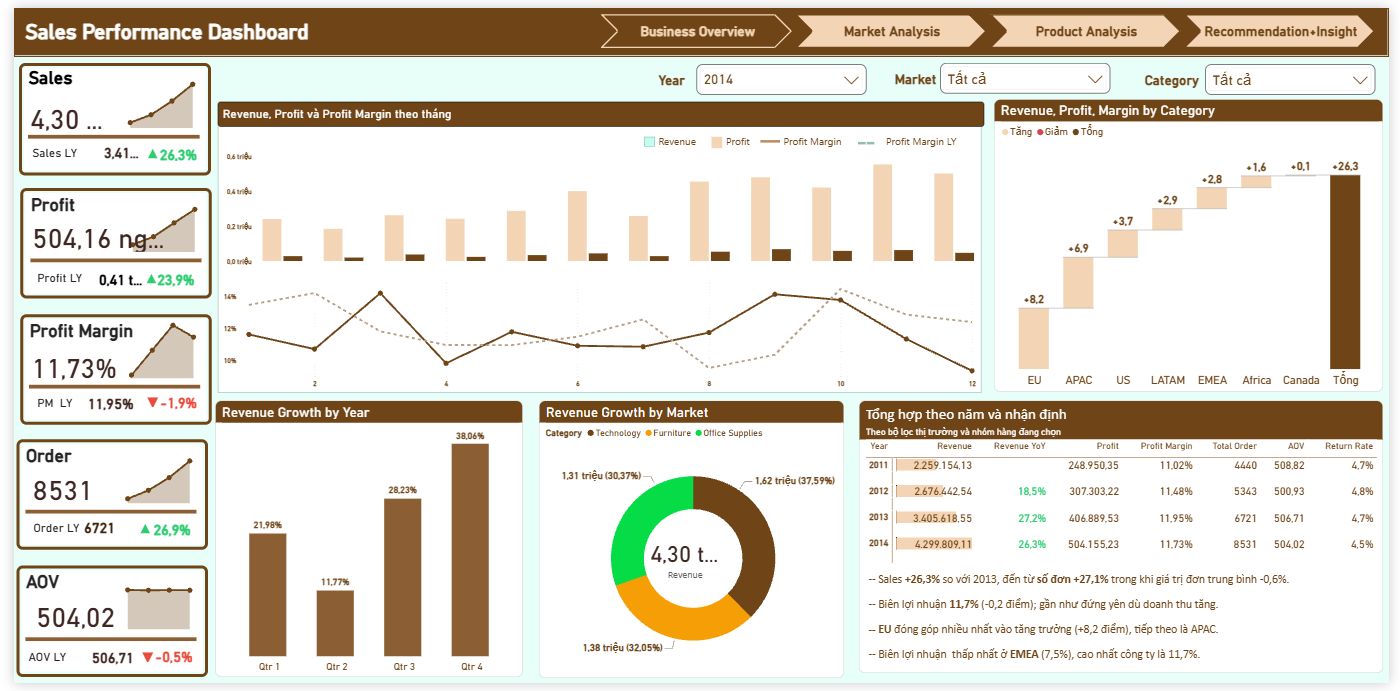

This screenshot's page, from the dashboard's own definition file:
{"tool":"powerbi","page":{"name":"Business Overview","canvas":[2200,1080],"ordinal":0},"visuals":[{"type":"shape","box":[0,0,2200,78],"z":0,"group":"g14"},{"type":"shape","box":[7.3,88,307.5,180],"z":0,"group":"g13"},{"type":"group","id":"g1","title":"Group 4","box":[1803.4,89.8,374.6,56.2],"z":0,"group":"g15"},{"type":"textbox","box":[1403.5,95.2,92.6,48.9],"z":0,"group":"g4"},{"type":"textbox","box":[1803.4,97,117.3,48.9],"z":0,"group":"g1"},{"type":"textbox","box":[1026,97.2,67.9,36.2],"z":0,"group":"g18"},{"type":"shape","box":[326,150,1222,466],"z":0},{"type":"group","id":"g2","title":"Group 3","box":[1008,196,97,36.9],"z":0,"group":"g5"},{"type":"shape","box":[1193.5,198,32.3,30.7],"z":0,"group":"g6"},{"type":"shape","box":[1115.8,205.2,17.3,18.3],"z":0,"group":"g3"},{"type":"shape","box":[1008,206.2,17.3,16.4],"z":0,"group":"g2"},{"type":"shape","box":[1364.9,206.2,12.9,20.5],"z":0,"group":"g11"},{"type":"shape","box":[10.9,288.1,306.2,177.1],"z":0,"group":"g12"},{"type":"shape","box":[9.3,489.4,306.2,177.1],"z":0,"group":"g10"},{"type":"shape","box":[4,690.7,306.2,177.1],"z":0,"group":"g9"},{"type":"shape","box":[4,892,306.2,178],"z":0,"group":"g8"},{"type":"slicer","fields":{"Values":["Dim_Geography.Market"]},"box":[1481.7,88,271.7,48.9],"z":1000,"group":"g4"},{"type":"slicer","fields":{"Values":["Dim_Product.Category"]},"box":[1906.3,89.8,271.7,48.9],"z":1000,"group":"g1"},{"type":"slicer","fields":{"Values":["Dim_Date.Year"]},"box":[1091.9,90,271.7,48.9],"z":1000,"group":"g18"},{"type":"textbox","box":[1025.3,196,79.8,36.9],"z":1000,"group":"g2"},{"type":"group","id":"g3","title":"Group 2","box":[1115.8,196,77.6,38.9],"z":1000,"group":"g5"},{"type":"textbox","box":[1133.1,196,60.4,38.9],"z":1000,"group":"g3"},{"type":"textbox","box":[1225.8,196,114.3,40.9],"z":1000,"group":"g6"},{"type":"textbox","box":[1391.9,196,138,40.9],"z":1000,"group":"g7"},{"type":"shape","box":[1350.9,206.2,12.9,20.5],"z":1000,"group":"g11"},{"type":"textbox","box":[24.7,215.9,156.7,34.5],"z":1000,"group":"g13"},{"type":"clusteredColumnChart","title":"Revenue, Profit, Margin by Category","fields":{"Category":["Dim_Date.Month"],"Y":["_Measure.Total Revenue","_Measure.Total Profit"]},"box":[330,224,1218,194],"z":1000},{"type":"cardVisual","fields":{"Data":["_Measure.Profit LY"]},"box":[112,408.3,118,50],"z":1000,"group":"g12"},{"type":"textbox","box":[32.6,615.1,90,40],"z":1000,"group":"g10"},{"type":"cardVisual","fields":{"Data":["_Measure.Order LY"]},"box":[88,807.3,118,50],"z":1000,"group":"g9"},{"type":"cardVisual","fields":{"Data":["_Measure.AOV LY"]},"box":[100,1012,118,52],"z":1000,"group":"g8"},{"type":"pageNavigator","box":[938,10,1240,54],"z":2000,"group":"g14"},{"type":"group","id":"g4","title":"Group 3","box":[1403.5,88,349.9,56.2],"z":2000,"group":"g15"},{"type":"group","id":"g5","title":"Group 1","box":[1008,196,522,40],"z":2000},{"type":"group","id":"g6","title":"Group 4","box":[1193.5,196,146.6,40.9],"z":2000,"group":"g5"},{"type":"cardVisual","fields":{"Data":["_Measure.Growth Arrow"]},"box":[179.3,207.8,80.4,50.8],"z":2000,"group":"g13"},{"type":"cardVisual","fields":{"Data":["_Measure.Profit YoY Growth %"]},"box":[200,403.3,126,60],"z":2000,"group":"g12"},{"type":"cardVisual","fields":{"Data":["_Measure.PM Growth Arrow"]},"box":[180.6,605.1,80,50],"z":2000,"group":"g10"},{"type":"cardVisual","fields":{"Data":["_Measure.Order yoy"]},"box":[193.1,803.8,126,60],"z":2000,"group":"g9"},{"type":"cardVisual","fields":{"Data":["_Measure.AOV yoy"]},"box":[196.3,1005.8,125.7,61.7],"z":2000,"group":"g8"},{"type":"textbox","box":[18,18,528,40],"z":2500,"group":"g14"},{"type":"group","id":"g7","title":"Group 6","box":[1350.9,196,179,40.9],"z":3000,"group":"g5"},{"type":"cardVisual","fields":{"Data":["_Measure.Revenue LY"]},"box":[120,206.6,108,49.1],"z":3000,"group":"g13"},{"type":"cardVisual","fields":{"Data":["_Measure.Profit Growth Arrow"]},"box":[178.4,408.3,81.4,50],"z":3000,"group":"g12"},{"type":"lineChart","fields":{"Category":["Dim_Date.Month"],"Y":["_Measure.Profit Margin %","_Measure.Profit Margin LY"]},"box":[330,422,1218,194],"z":3000},{"type":"cardVisual","fields":{"Data":["_Measure.PM LY"]},"box":[94.6,603.1,134,54],"z":3000,"group":"g10"},{"type":"cardVisual","fields":{"Data":["_Measure.Order Arrow"]},"box":[168,809.3,80,50],"z":3000,"group":"g9"},{"type":"cardVisual","fields":{"Data":["_Measure.AOV Arrow"]},"box":[171.6,1013.2,81.4,50.2],"z":3000,"group":"g8"},{"type":"cardVisual","fields":{"Data":["_Measure.Revenue YoY Growth %"]},"box":[203.5,203.7,124.5,58.9],"z":4000,"group":"g13"},{"type":"textbox","box":[32,415.3,104,36],"z":4000,"group":"g12"},{"type":"cardVisual","fields":{"Data":["_Measure.PM YoY Growth %"]},"box":[204.6,601.1,124,58],"z":4000,"group":"g10"},{"type":"textbox","box":[25.1,815.8,104,36],"z":4000,"group":"g9"},{"type":"group","id":"g8","title":"Card 5","box":[4,892,318,178],"z":4000},{"type":"textbox","box":[18.7,1022.2,147.2,33],"z":4000,"group":"g8"},{"type":"textbox","box":[326,150,1226,48],"z":5000},{"type":"shape","box":[21.6,198.3,275.4,16],"z":5000,"group":"g13"},{"type":"shape","box":[25.1,396.7,274.2,15.7],"z":5000,"group":"g12"},{"type":"shape","box":[23.5,598,274.2,15.7],"z":5000,"group":"g10"},{"type":"shape","box":[18.2,799.3,274.2,15.7],"z":5000,"group":"g9"},{"type":"shape","box":[18.2,1001.1,274.2,15.8],"z":5000,"group":"g8"},{"type":"cardVisual","fields":{"Data":["_Measure.AOV"]},"box":[10,940,194,68],"z":5500,"group":"g8"},{"type":"lineChart","fields":{"Category":["Date.Year"],"Y":["_Measure.Total Revenue"]},"box":[176.3,91.7,119.9,100.2],"z":6000,"group":"g13"},{"type":"lineChart","fields":{"Category":["Date.Year"],"Y":["_Measure.Total Profit"]},"box":[179.1,291.8,119.3,98.6],"z":6000,"group":"g12"},{"type":"lineChart","fields":{"Category":["Date.Year"],"Y":["_Measure.Profit Margin %"]},"box":[177.6,493.1,119.3,98.6],"z":6000,"group":"g10"},{"type":"group","id":"g9","title":"Card 4","box":[4,690.7,315.1,177.1],"z":6000},{"type":"lineChart","fields":{"Category":["Date.Year"],"Y":["_Measure.Total Order"]},"box":[172.3,694.4,119.3,98.6],"z":6000,"group":"g9"},{"type":"lineChart","fields":{"Category":["Date.Year"],"Y":["_Measure.AOV"]},"box":[172.3,895.7,119.3,99],"z":6000,"group":"g8"},{"type":"textbox","box":[18,90,146,53.2],"z":7000,"group":"g13"},{"type":"textbox","box":[22,292.8,106,50],"z":7000,"group":"g12"},{"type":"group","id":"g10","title":"Card 3","box":[4,489.4,324.6,177.1],"z":7000},{"type":"textbox","box":[19.9,493.1,237.2,50],"z":7000,"group":"g10"},{"type":"textbox","box":[14.6,694.4,237.2,50],"z":7000,"group":"g9"},{"type":"textbox","box":[14.6,895.7,237.3,50.2],"z":7000,"group":"g8"},{"type":"group","id":"g11","title":"Group 5","box":[1350.9,206.2,27,20.5],"z":7008,"group":"g7"},{"type":"cardVisual","fields":{"Data":["_Measure.Total Sales"]},"box":[2,141.2,172,67.5],"z":8000,"group":"g13"},{"type":"group","id":"g12","title":"Card 2","box":[4,288.1,322,177.1],"z":8000},{"type":"cardVisual","fields":{"Data":["_Measure.Total Profit"]},"box":[4,333.5,274,68],"z":8000,"group":"g12"},{"type":"cardVisual","fields":{"Data":["_Measure.Profit Margin %"]},"box":[4,541.2,194.3,67.1],"z":8000,"group":"g10"},{"type":"cardVisual","fields":{"Data":["_Measure.Total Order"]},"box":[5.1,737.8,200,66],"z":8000,"group":"g9"},{"type":"group","id":"g13","title":"Card 1","box":[2,88,326,180],"z":9000},{"type":"group","id":"g14","title":"Heding","box":[0,0,2200,78],"z":10000},{"type":"clusteredColumnChart","title":"Sales Growth YoY by Quarter","fields":{"Y":["_Measure.Revenue YoY Growth %"],"Category":["Dim_Date.Date.Variation.Date Hierarchy.Quarter"]},"box":[322,628,492,442],"z":11000},{"type":"donutChart","title":"Sales structure by Category","fields":{"Y":["_Measure.Total Revenue"],"Category":["Dim_Product.Category"]},"box":[839,628,488,444],"z":12000,"group":"g17"},{"type":"waterfallChart","title":"Contribution to growth by Market","fields":{"Category":["Dim_Geography.Market"],"Y":["_Measure.Growth Contribution PP"]},"box":[1568,146,622,468],"z":13000},{"type":"cardVisual","fields":{"Data":["_Measure.Total Revenue"]},"box":[1008,832,160,106],"z":14000,"group":"g17"},{"type":"group","id":"g15","title":"Group 8","box":[1026,88,1152,58],"z":15000},{"type":"group","id":"g16","title":"Group 9","box":[1352,628,838,436],"z":16000},{"type":"pivotTable","title":" Annual summary and assessment","fields":{"Values":["_Measure.Total Revenue","_Measure.Revenue YoY Growth %","_Measure.Total Profit","_Measure.Profit Margin %","_Measure.Total Order","_Measure.AOV","_Measure.Return Rate %"],"Rows":["Dim_Date.Year"]},"box":[1352,628,838,436],"z":16000,"group":"g16"},{"type":"group","id":"g17","title":"Group 10","box":[839,628,488,444],"z":16001},{"type":"textbox","box":[1362,898,786,158],"z":18000,"group":"g16"},{"type":"group","id":"g18","title":"Group 7","box":[1026,90,338,48],"z":19000,"group":"g15"}]}

Visuals, with their boxes in screenshot pixels (x1, y1, x2, y2), scaled from the page's 2200x1080 canvas onto the 1400x691 screenshot:
shape: [0, 0, 1399, 50]
shape: [5, 56, 200, 171]
"Group 4" group: [1148, 57, 1386, 93]
textbox: [893, 61, 952, 92]
textbox: [1148, 62, 1222, 93]
textbox: [653, 62, 696, 85]
shape: [207, 96, 985, 394]
"Group 3" group: [641, 125, 703, 149]
shape: [760, 127, 780, 146]
shape: [710, 131, 721, 143]
shape: [641, 132, 652, 142]
shape: [869, 132, 877, 145]
shape: [7, 184, 202, 298]
shape: [6, 313, 201, 426]
shape: [3, 442, 197, 555]
shape: [3, 571, 197, 685]
slicer - Dim_Geography.Market: [943, 56, 1116, 88]
slicer - Dim_Product.Category: [1213, 57, 1386, 89]
slicer - Dim_Date.Year: [695, 58, 868, 89]
textbox: [652, 125, 703, 149]
"Group 2" group: [710, 125, 759, 150]
textbox: [721, 125, 760, 150]
textbox: [780, 125, 853, 152]
textbox: [886, 125, 974, 152]
shape: [860, 132, 868, 145]
textbox: [16, 138, 115, 160]
"Revenue, Profit, Margin by Category" clusteredColumnChart: [210, 143, 985, 267]
cardVisual - _Measure.Profit LY: [71, 261, 146, 293]
textbox: [21, 394, 78, 419]
cardVisual - _Measure.Order LY: [56, 517, 131, 549]
cardVisual - _Measure.AOV LY: [64, 647, 139, 681]
pageNavigator: [597, 6, 1386, 41]
"Group 3" group: [893, 56, 1116, 92]
"Group 1" group: [641, 125, 974, 151]
"Group 4" group: [760, 125, 853, 152]
cardVisual - _Measure.Growth Arrow: [114, 133, 165, 165]
cardVisual - _Measure.Profit YoY Growth %: [127, 258, 207, 296]
cardVisual - _Measure.PM Growth Arrow: [115, 387, 166, 419]
cardVisual - _Measure.Order yoy: [123, 514, 203, 553]
cardVisual - _Measure.AOV yoy: [125, 644, 205, 683]
textbox: [11, 12, 347, 37]
"Group 6" group: [860, 125, 974, 152]
cardVisual - _Measure.Revenue LY: [76, 132, 145, 164]
cardVisual - _Measure.Profit Growth Arrow: [114, 261, 165, 293]
lineChart - Dim_Date.Month x _Measure.Profit Margin %: [210, 270, 985, 394]
cardVisual - _Measure.PM LY: [60, 386, 145, 420]
cardVisual - _Measure.Order Arrow: [107, 518, 158, 550]
cardVisual - _Measure.AOV Arrow: [109, 648, 161, 680]
cardVisual - _Measure.Revenue YoY Growth %: [130, 130, 209, 168]
textbox: [20, 266, 87, 289]
cardVisual - _Measure.PM YoY Growth %: [130, 385, 209, 422]
textbox: [16, 522, 82, 545]
"Card 5" group: [3, 571, 205, 685]
textbox: [12, 654, 106, 675]
textbox: [207, 96, 988, 127]
shape: [14, 127, 189, 137]
shape: [16, 254, 190, 264]
shape: [15, 383, 189, 393]
shape: [12, 511, 186, 521]
shape: [12, 641, 186, 651]
cardVisual - _Measure.AOV: [6, 601, 130, 645]
lineChart - Date.Year x _Measure.Total Revenue: [112, 59, 188, 123]
lineChart - Date.Year x _Measure.Total Profit: [114, 187, 190, 250]
lineChart - Date.Year x _Measure.Profit Margin %: [113, 315, 189, 379]
"Card 4" group: [3, 442, 203, 555]
lineChart - Date.Year x _Measure.Total Order: [110, 444, 186, 507]
lineChart - Date.Year x _Measure.AOV: [110, 573, 186, 636]
textbox: [11, 58, 104, 92]
textbox: [14, 187, 81, 219]
"Card 3" group: [3, 313, 209, 426]
textbox: [13, 315, 164, 347]
textbox: [9, 444, 160, 476]
textbox: [9, 573, 160, 605]
"Group 5" group: [860, 132, 877, 145]
cardVisual - _Measure.Total Sales: [1, 90, 111, 134]
"Card 2" group: [3, 184, 207, 298]
cardVisual - _Measure.Total Profit: [3, 213, 177, 257]
cardVisual - _Measure.Profit Margin %: [3, 346, 126, 389]
cardVisual - _Measure.Total Order: [3, 472, 131, 514]
"Card 1" group: [1, 56, 209, 171]
"Heding" group: [0, 0, 1399, 50]
"Sales Growth YoY by Quarter" clusteredColumnChart: [205, 402, 518, 685]
"Sales structure by Category" donutChart: [534, 402, 844, 686]
"Contribution to growth by Market" waterfallChart: [998, 93, 1394, 393]
cardVisual - _Measure.Total Revenue: [641, 532, 743, 600]
"Group 8" group: [653, 56, 1386, 93]
"Group 9" group: [860, 402, 1394, 681]
" Annual summary and assessment" pivotTable: [860, 402, 1394, 681]
"Group 10" group: [534, 402, 844, 686]
textbox: [867, 575, 1367, 676]
"Group 7" group: [653, 58, 868, 88]
